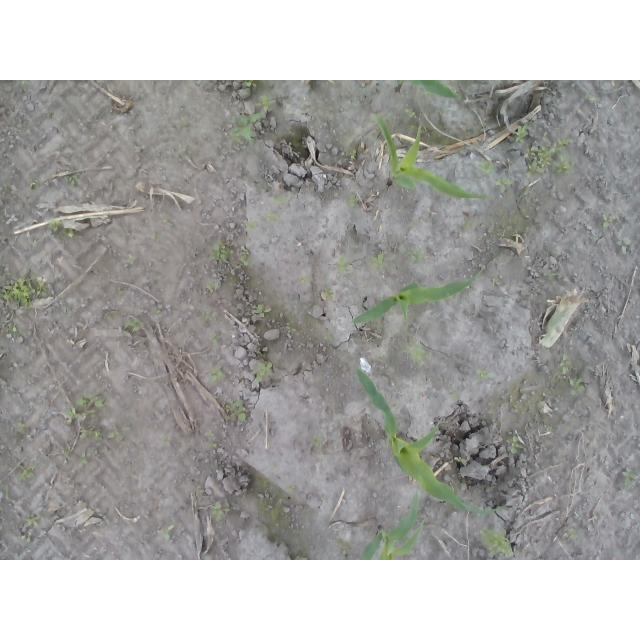Maize: (355, 366, 507, 518), (371, 111, 493, 202), (349, 272, 479, 330), (358, 492, 425, 561), (394, 80, 462, 101)
Weeds: (527, 137, 578, 175), (1, 278, 50, 311), (65, 391, 106, 425), (226, 112, 268, 145), (478, 526, 514, 557), (209, 238, 235, 266), (17, 515, 40, 542), (225, 399, 248, 423), (409, 339, 432, 362), (80, 428, 120, 441), (399, 247, 425, 266), (568, 375, 589, 397), (254, 362, 274, 385), (472, 367, 496, 385), (559, 352, 574, 377), (255, 94, 273, 113), (495, 175, 513, 193), (79, 447, 97, 465), (478, 160, 498, 176), (19, 464, 39, 480), (515, 124, 530, 145), (511, 434, 526, 455), (622, 468, 639, 486), (616, 237, 632, 256), (210, 500, 224, 521), (255, 303, 274, 317), (210, 368, 225, 385), (207, 279, 223, 294), (63, 174, 81, 187), (368, 253, 384, 267), (337, 543, 353, 557), (347, 191, 359, 209), (158, 527, 172, 542), (47, 218, 61, 233), (2, 323, 17, 337), (336, 256, 348, 273), (199, 311, 217, 322), (266, 212, 281, 225), (602, 214, 614, 229), (564, 527, 576, 542), (15, 420, 27, 435), (207, 432, 217, 449), (311, 435, 323, 449), (129, 319, 140, 334), (241, 221, 256, 232), (271, 196, 289, 205), (404, 107, 417, 119), (238, 254, 250, 267), (16, 80, 33, 89), (208, 335, 223, 345), (322, 287, 334, 299), (0, 488, 12, 499), (285, 322, 298, 332), (28, 179, 40, 189), (63, 228, 73, 240), (585, 94, 599, 102), (359, 87, 370, 97), (151, 307, 162, 316), (128, 255, 137, 266), (453, 457, 467, 464), (243, 81, 257, 88), (298, 275, 310, 283), (350, 149, 358, 160), (452, 88, 461, 97), (288, 484, 296, 493), (544, 272, 557, 277), (542, 423, 550, 431), (48, 110, 56, 118)
